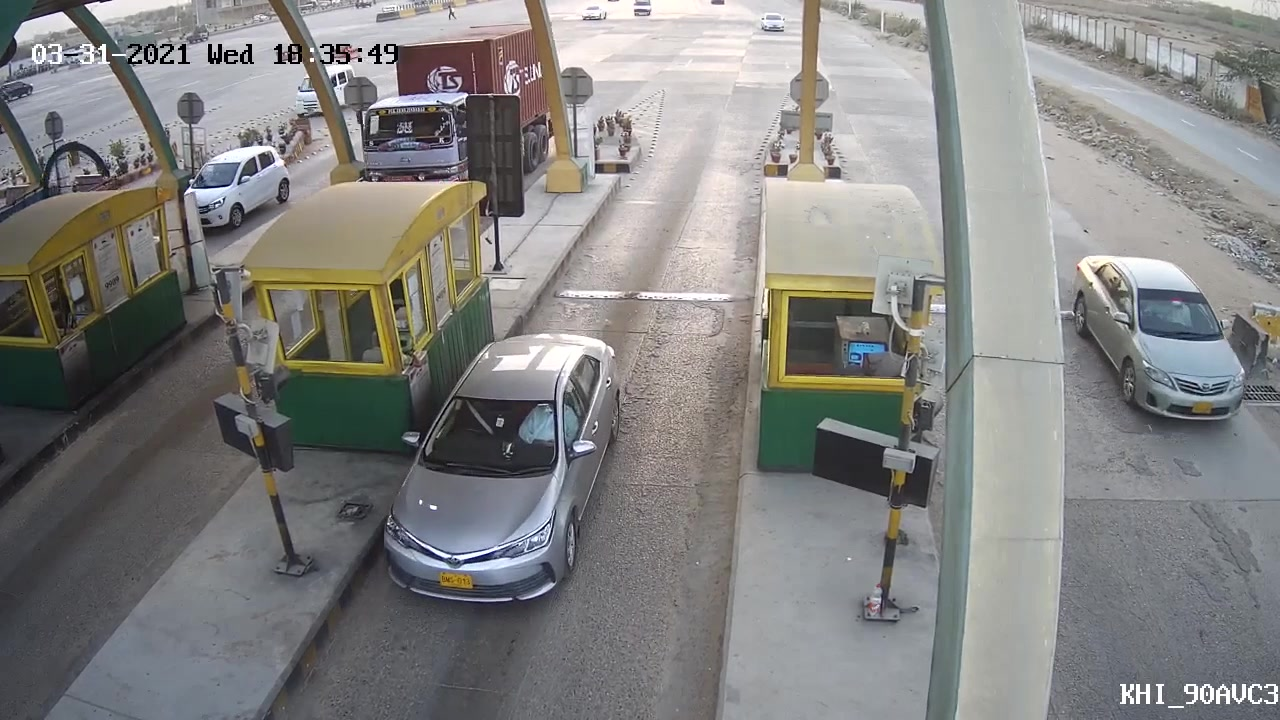F1: (376, 325, 625, 616)
